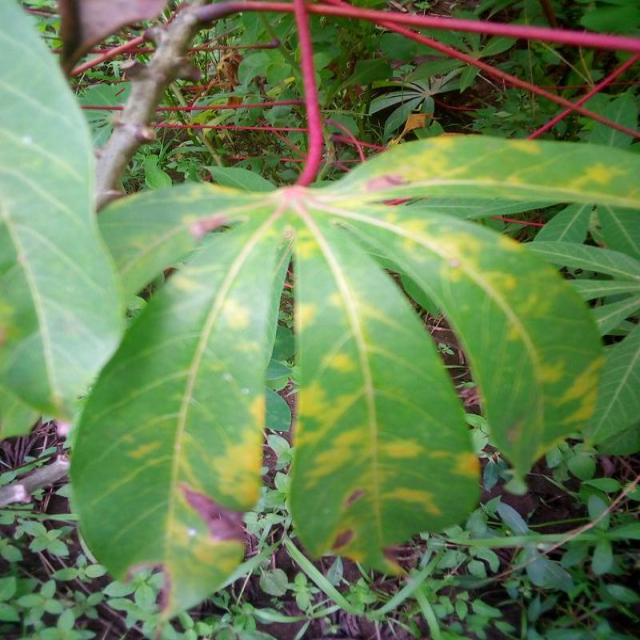cassava leaf: (65, 193, 294, 623), (284, 197, 482, 577), (0, 0, 127, 428)
